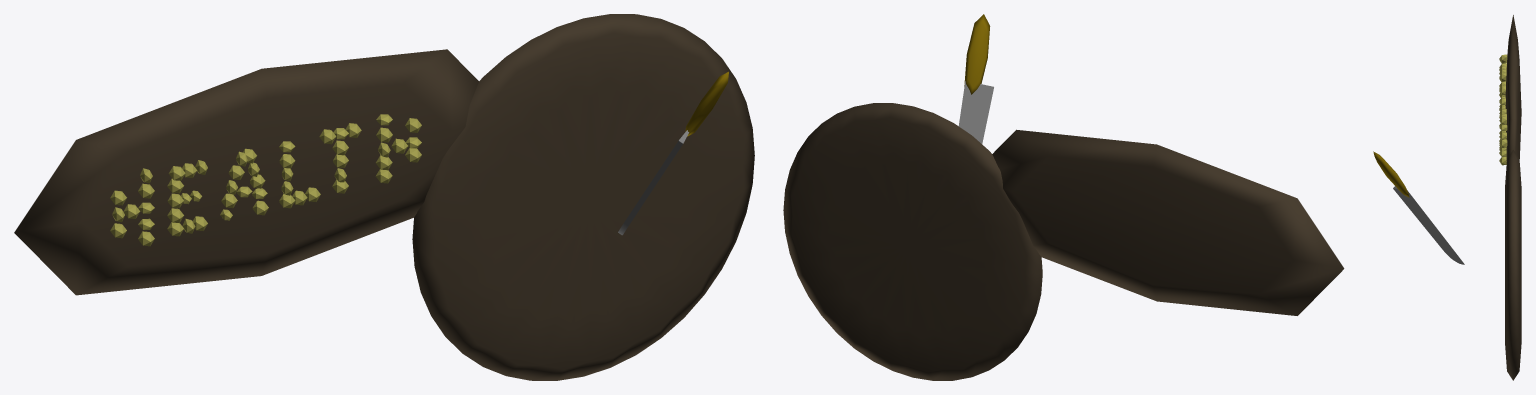
Rendered from 0prc_Health_Bar.fbx.
3 renders of one model, left to right at view 1: azimuth 30°, elevation 25°; view 2: azimuth 150°, elevation 25°; view 3: azimuth 270°, elevation 25°, orthographic. The views are drawn at different scales.
Visible parts, largest first — view 1: cheeseboard, pCube3, pCube2, pCube1; view 2: cheeseboard, pCube3, pCube1, pCube2; view 3: cheeseboard, pCube3, pCube1, pCube2.
Part boxes in pixels (x1,y1,x2,y2): cheeseboard: (412, 14, 754, 380); pCube3: (14, 49, 478, 295); pCube2: (685, 71, 728, 136); pCube1: (618, 130, 688, 235); cheeseboard: (783, 103, 1042, 380); pCube3: (992, 129, 1344, 315); pCube1: (958, 81, 993, 143); pCube2: (964, 14, 990, 94); cheeseboard: (1505, 150, 1521, 380); pCube3: (1505, 15, 1521, 160); pCube1: (1393, 186, 1464, 264); pCube2: (1373, 151, 1409, 197).
Bounding box in the file's own units: 29.91 × 14.91 × 8.86.
